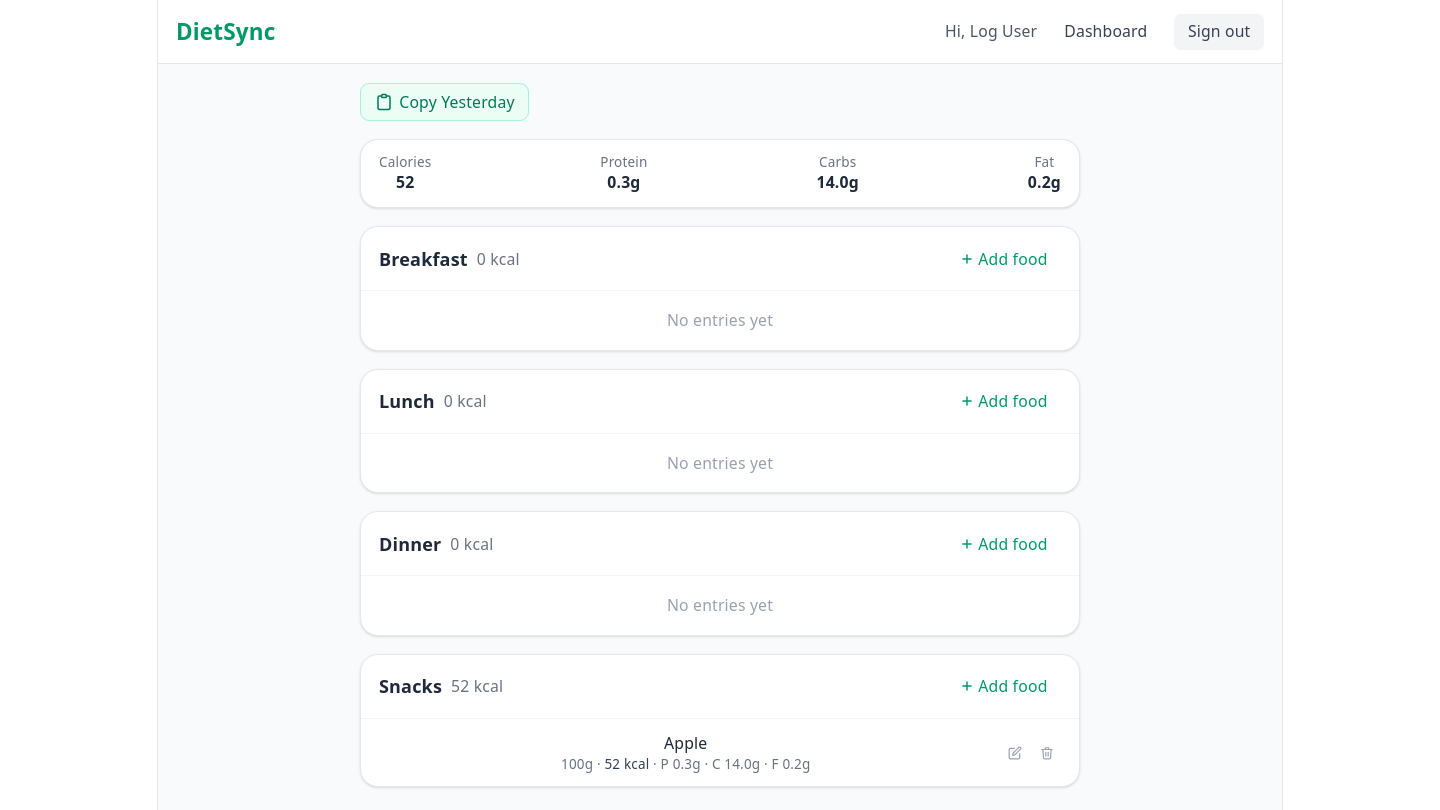
Scenario: Removing a food entry › section calorie total returns to 0 after removing the only entry
The width and height of the screenshot is (1440, 810).
(page scrolled)
Expected: the text named "snacks total: 52 calories" is shown, [451,675,503,698]
Note: Remove the entry
Click the button named "remove apple" at (1047, 753), box [1034,739,1061,766]
(page scrolled)
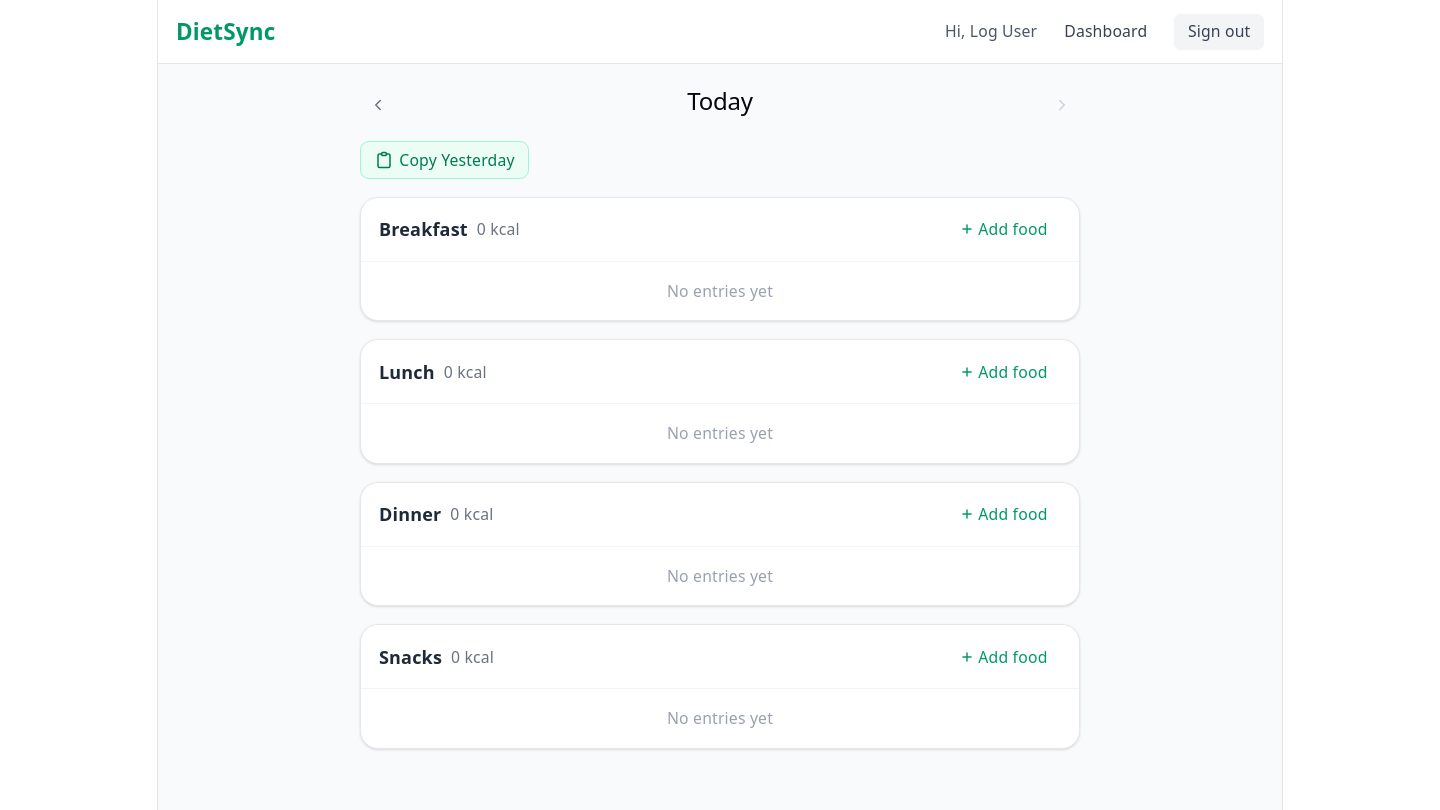
Expected: the text named "snacks total: 0 calories" is shown, [451,646,494,668]
